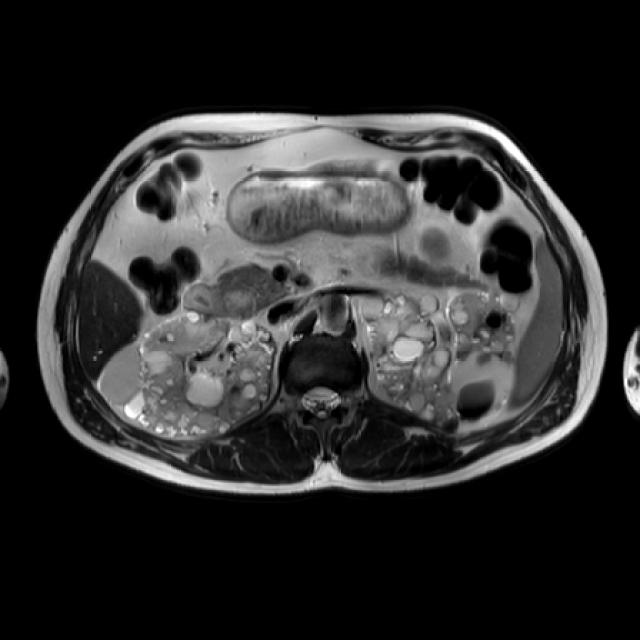sag: (103, 314, 274, 436)
sol: (364, 291, 516, 433)
